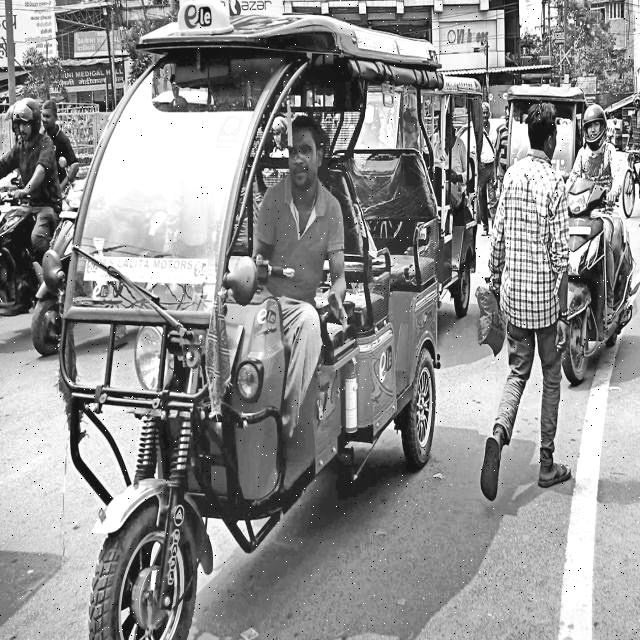Toto: (63, 10, 441, 640), (435, 65, 489, 317)
